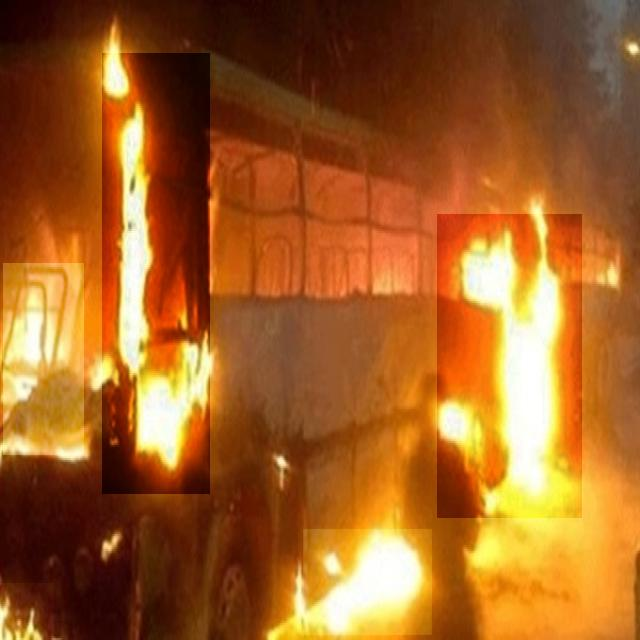Fire: (102, 53, 210, 494), (437, 214, 582, 518), (3, 263, 84, 455), (303, 529, 432, 635), (0, 583, 54, 640)
